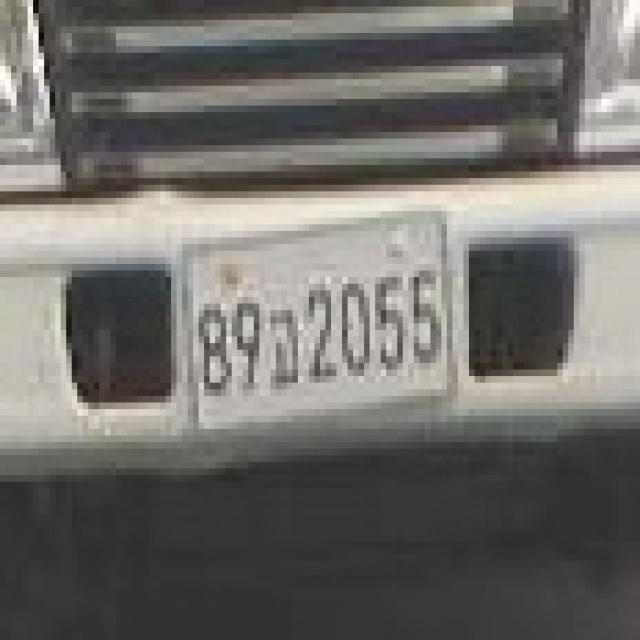plat: (172, 210, 450, 427)
